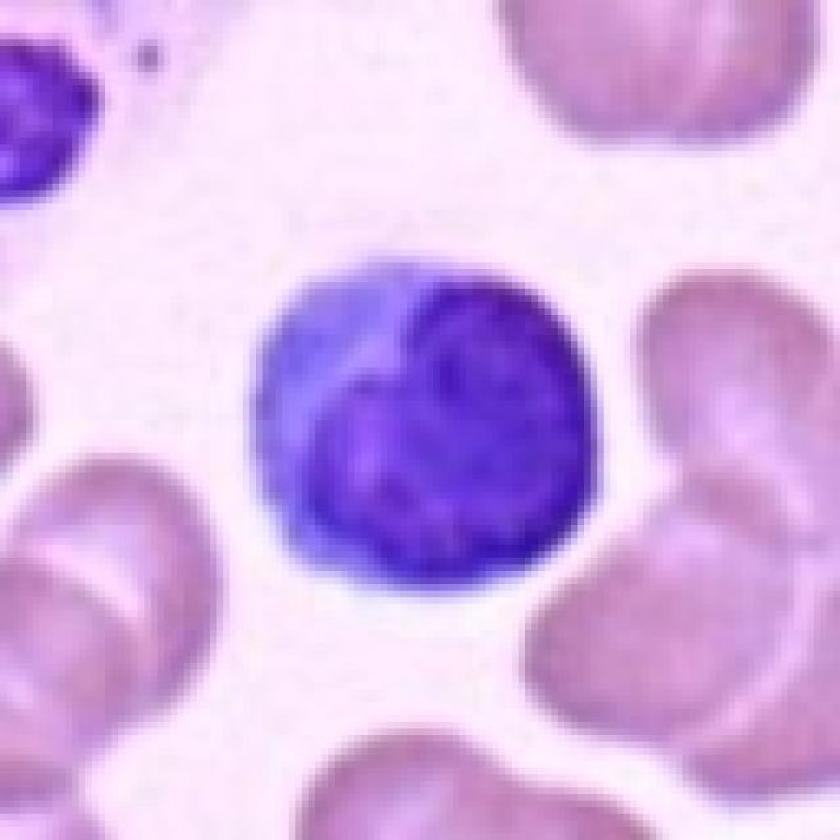lymphocyte: (241, 241, 609, 605)
